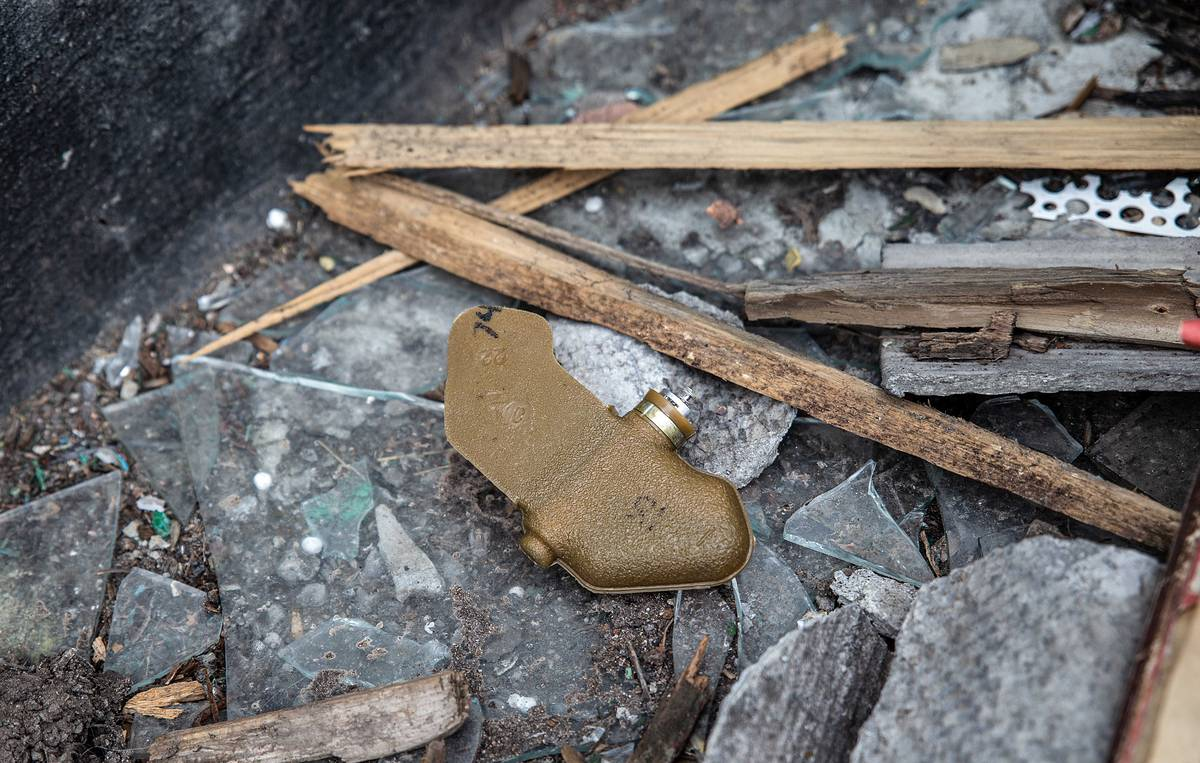butterfly: (423, 294, 760, 601)
